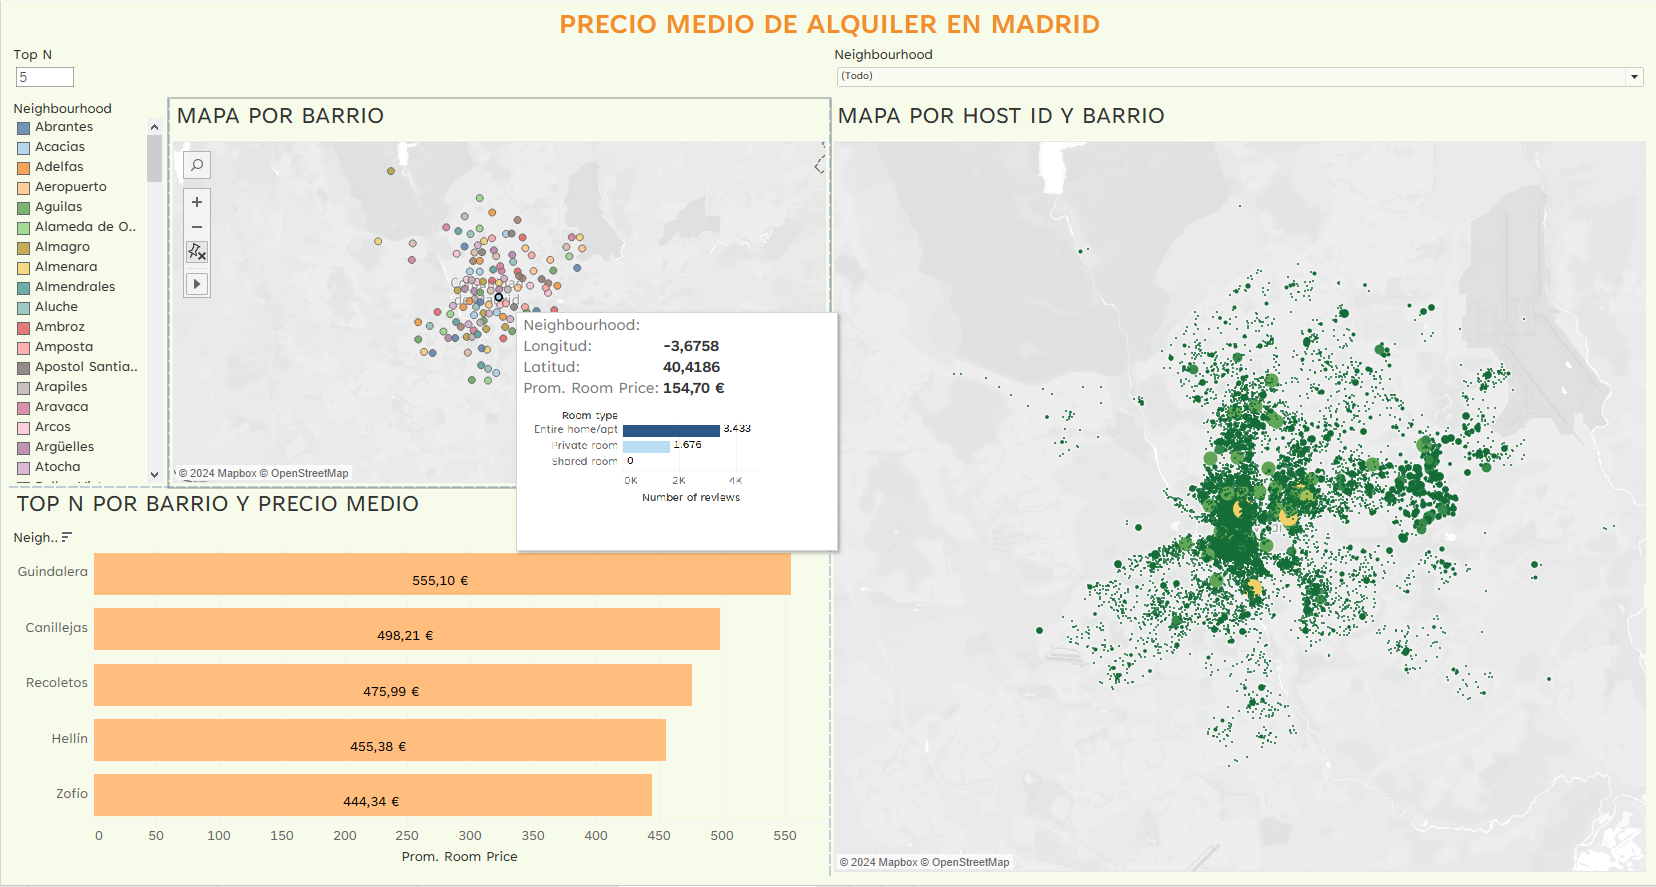

The page's visual inventory and layout, read from the dashboard file:
{"tool":"tableau","page":{"name":"Precio medio de alquiler en Madrid","canvas":[1000,1000],"units":"permille","ordinal":0},"visuals":[{"type":"title","box":[4.8,9.1,990.3,40.8]},{"type":"parameter","param":"[Parameters].[Parámetro 1]","box":[4.8,49.8,43.1,61.2]},{"type":"blank","box":[48,49.8,452,61.2]},{"type":"filter","title":"MAPA POR HOST ID Y BARRIO","param":"[federated.043el0b0gj04mv12hvc0017hrciy].[none:Neighbourhood:nk]","box":[500,49.8,495.2,55.5]},{"type":"legend","title":"MAPA POR BARRIO","param":"[federated.043el0b0gj04mv12hvc0017hrciy].[none:Neighbourhood:nk]","box":[4.8,111,96.5,439.8]},{"type":"worksheet","title":"MAPA POR BARRIO","mark":"Multipolygon","rows":["Calculation_823595802142863362"],"cols":["Calculation_823595802141425665"],"box":[101.4,111,398.6,439.8]},{"type":"worksheet","title":"MAPA POR HOST ID Y BARRIO","mark":"Circle","rows":["Calculation_823595802142863362"],"cols":["Calculation_823595802141425665"],"box":[500,111,495.2,880]},{"type":"worksheet","title":"TOP N POR BARRIO Y PRECIO MEDIO","mark":"Automatic","rows":["Neighbourhood"],"cols":["Room Price"],"box":[4.8,550.8,495.2,440.1]}]}

Visuals, with their boxes on the dashboard's canvas, which has no fixed pixel size, in thousandths of its width and height (x1, y1, x2, y2). These are canvas units, not pixel positions in the 1656x887 screenshot, which may show the page scaled, cropped or inside an application window:
title: 5, 9, 995, 50
parameter: 5, 50, 48, 111
blank: 48, 50, 500, 111
"MAPA POR HOST ID Y BARRIO" filter: 500, 50, 995, 105
"MAPA POR BARRIO" legend: 5, 111, 101, 551
"MAPA POR BARRIO" worksheet (Multipolygon marks): 101, 111, 500, 551
"MAPA POR HOST ID Y BARRIO" worksheet (Circle marks): 500, 111, 995, 991
"TOP N POR BARRIO Y PRECIO MEDIO" worksheet: 5, 551, 500, 991
